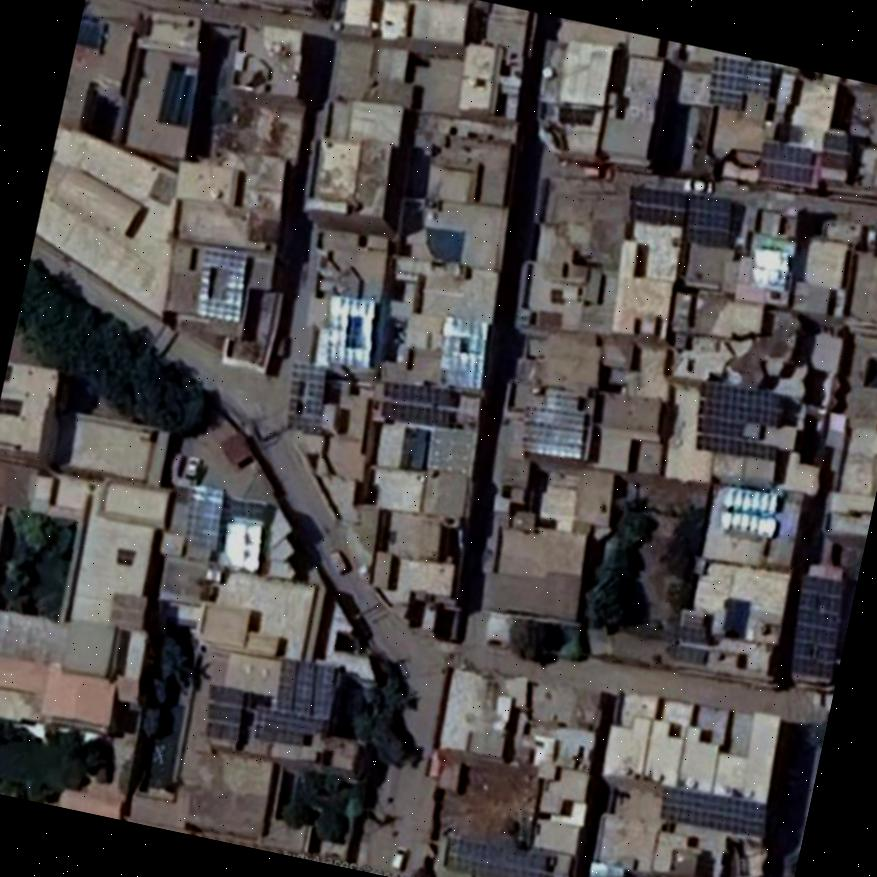Solarpanel: (698, 381, 780, 456), (787, 573, 840, 676), (658, 786, 763, 834), (522, 386, 587, 456), (194, 245, 247, 320), (445, 839, 545, 877), (276, 656, 333, 718), (440, 312, 487, 386), (328, 293, 374, 367), (382, 379, 453, 425), (710, 56, 770, 108), (256, 705, 325, 746), (721, 486, 776, 534), (184, 487, 223, 546), (758, 138, 812, 180), (203, 682, 243, 738), (287, 360, 323, 422), (686, 194, 729, 245), (630, 188, 686, 222)
